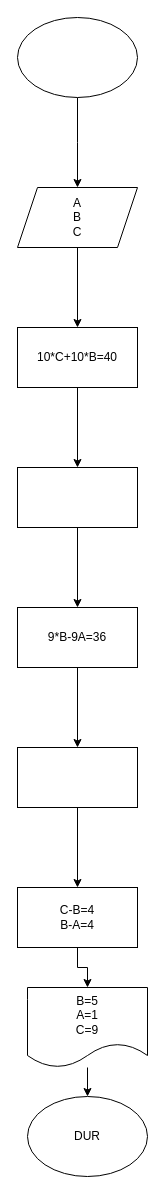
The diagram is 165 pixels wide and 1194 high, and some of its shapes have lost their labels. Here are the shapes that lost their labels. From the top down, the box of each, then its label:
(16, 16, 138, 98): başla
(16, 466, 138, 528): C-B=4
(16, 746, 138, 808): B-A=4
